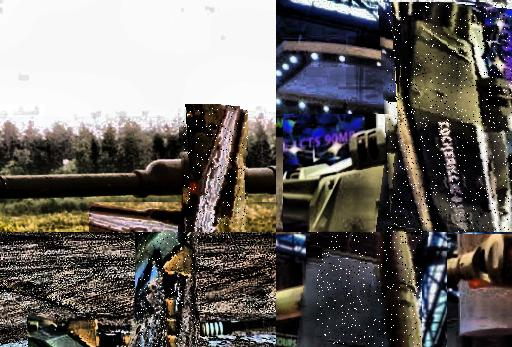tanks: (388, 3, 512, 233), (1, 161, 277, 197), (184, 106, 248, 233), (140, 233, 192, 347), (375, 233, 421, 347)
